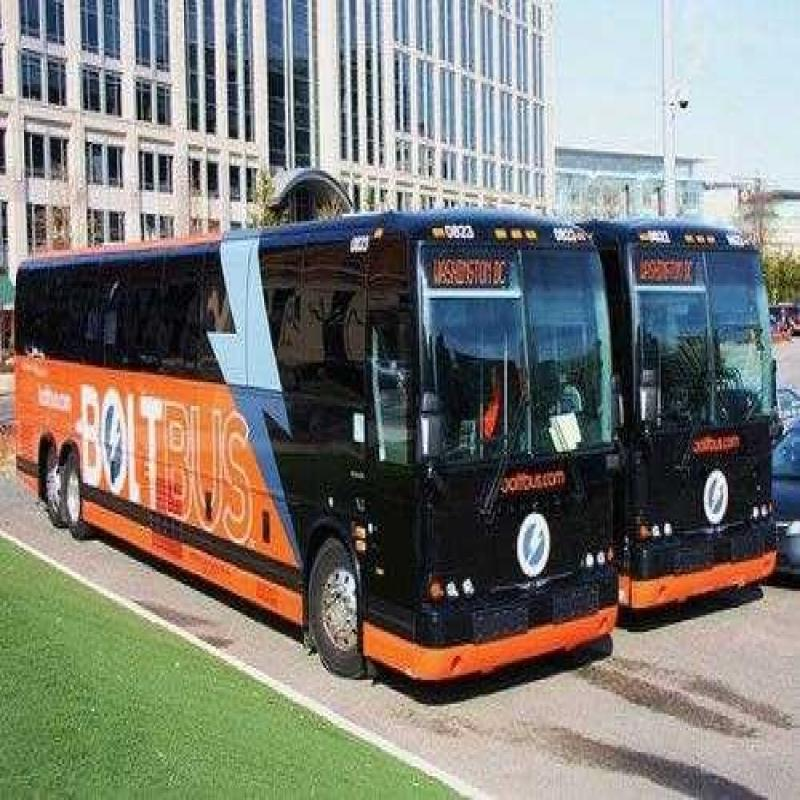bus: (17, 195, 602, 720), (626, 172, 774, 648)
